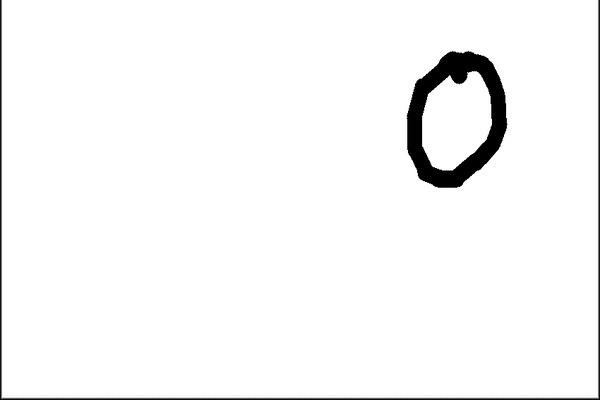O: (395, 38, 517, 197)
